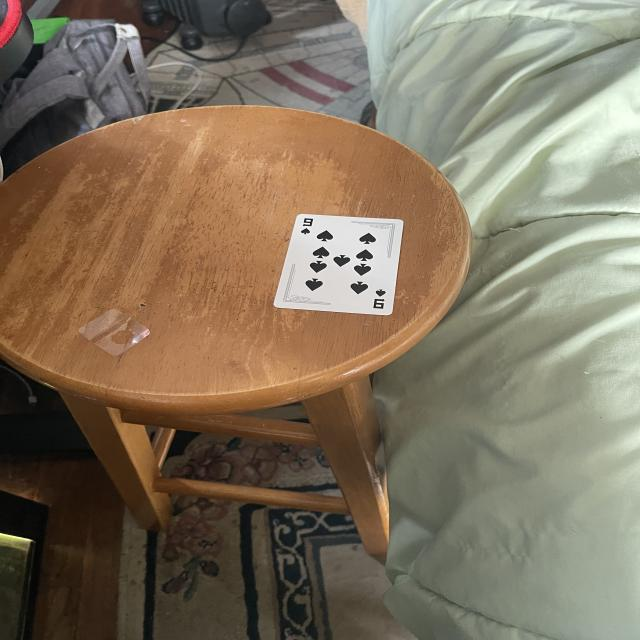9 of spades: (275, 214, 404, 316)
